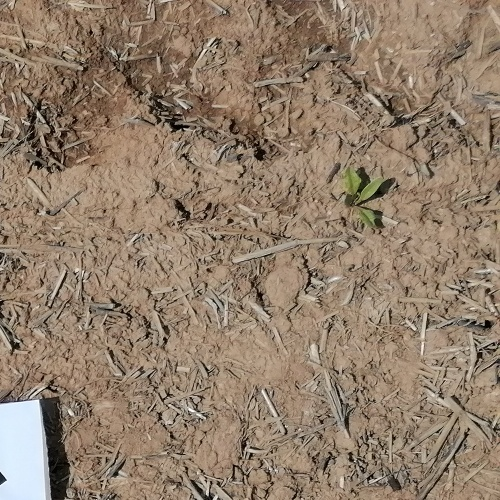beet: (345, 165, 382, 233)
